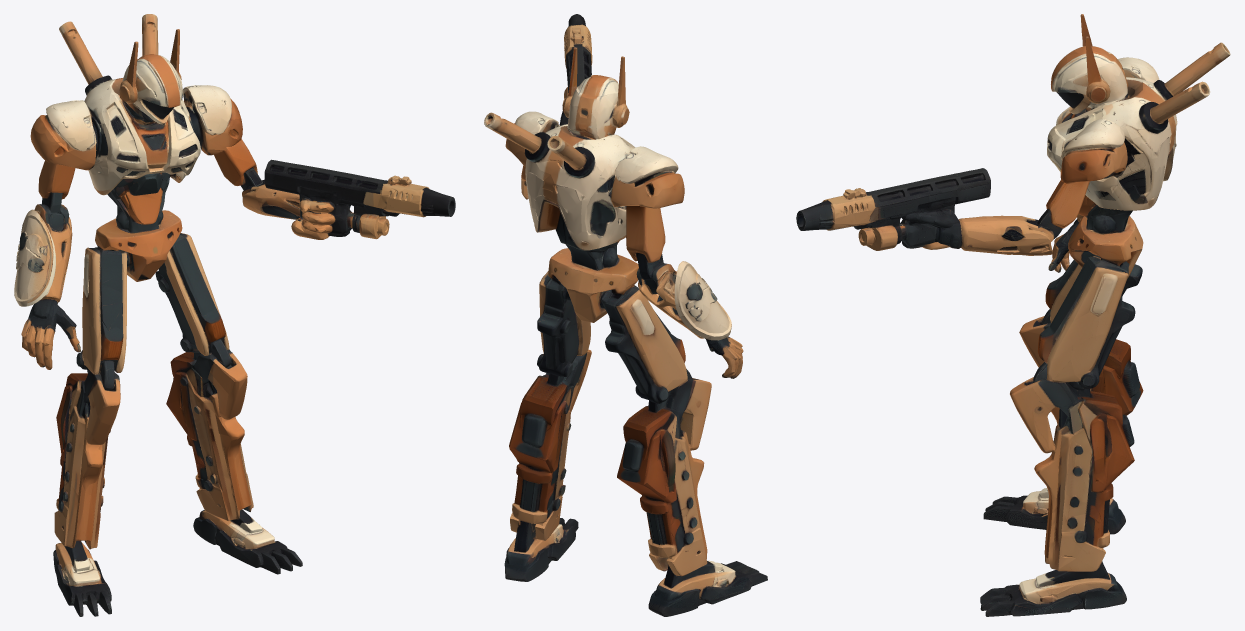
Rendered from en02_desert_sniper.fbx.
The picture shows the model from 3 angles, left to right: view 1: azimuth 30°, elevation 25°; view 2: azimuth 150°, elevation 25°; view 3: azimuth 270°, elevation 25°; orthographic projection. The views are drawn at different scales.
Visible parts, largest first — view 1: Mesh_0; view 2: Mesh_0; view 3: Mesh_0.
Part boxes in pixels (x1,y1,x2,y2): Mesh_0: (14, 14, 455, 616); Mesh_0: (484, 14, 767, 616); Mesh_0: (796, 14, 1230, 616).
Size of the model in its own units: 108 by 180 by 131.
Materials: 1 (1 with a texture image).
